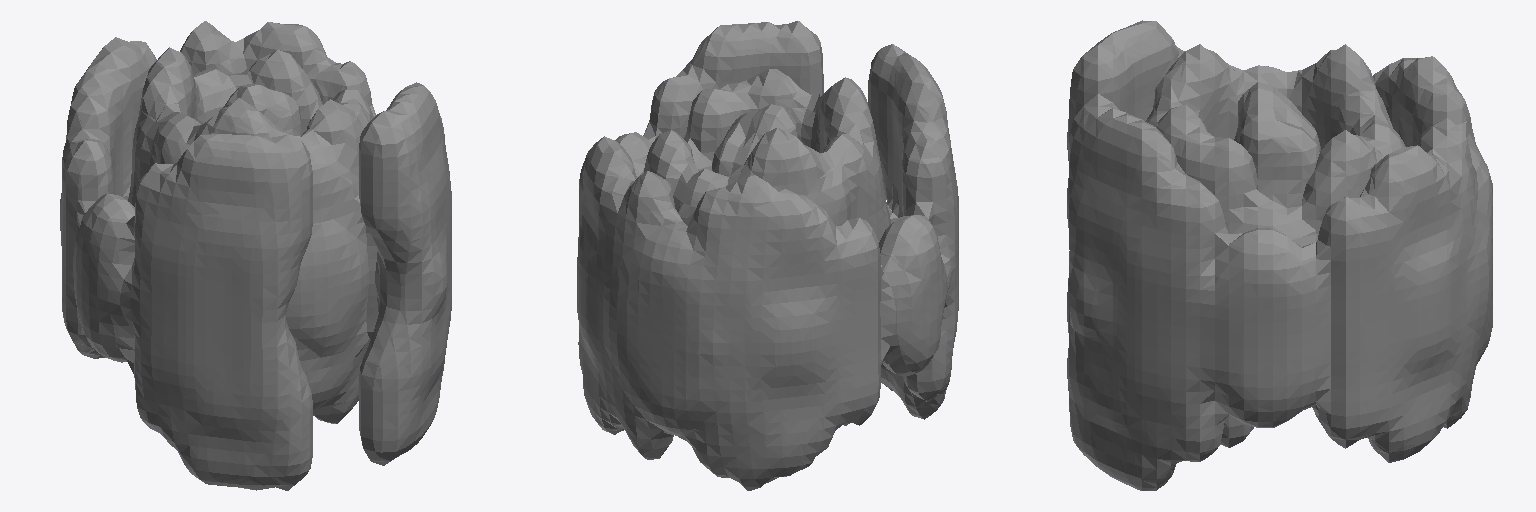
The robot description file, URDF, robot "cube.urdf":
<?xml version="0.0" ?> 
<robot name="cube.urdf"> 
<link name="legobrick"> 
<contact> 
<lateral_friction value="5.0"/> 
<rolling_friction value="0.0"/> 
<contact_cfm value="0.0"/> 
<contact_erp value="1.0"/> 
</contact> 
<inertial> 
<origin rpy="0 0 0" xyz="0.0 0.0 0.0"/> 
<mass value=".01"/> 
<inertia ixx="1" ixy="0" ixz="0" iyy="1" iyz="0" izz="1"/> 
</inertial> 
<visual> 
<origin rpy="1.570796 0 0" xyz="-0.025558558276206077 0.028425324066135942 -0.026757930072599054"/> 
<geometry> 
<mesh filename="E16_3.obj" scale="0.0006984712658935544 0.0006984712658935544 0.0006984712658935544"/> 
</geometry> 
<material name="yellow"> 
<color rgba="0.6 0.6 0.6 1"/> 
</material> 
</visual> 
<collision> 
<origin rpy="1.570796 0 0" xyz="-0.025558558276206077 0.028425324066135942 -0.026757930072599054"/> 
<geometry> 
<mesh filename="E16_3.obj" scale="0.0006984712658935544 0.0006984712658935544 0.0006984712658935544"/> 
</geometry> 
</collision> 
</link> 
</robot>

--- What the picture shows (computed from the rendered views, not written in the file) ---
The picture shows the robot from 3 angles, left to right: view 1: azimuth 30°, elevation 25°; view 2: azimuth 150°, elevation 25°; view 3: azimuth 270°, elevation 25°; orthographic projection.
Model cube.urdf with 1 links and 0 joints (none), rooted at legobrick, posed all joints at 0.
Visible links, largest first — view 1: legobrick; view 2: legobrick; view 3: legobrick.
Link boxes in pixels (<box>): legobrick: <box>60,21,451,490</box>; legobrick: <box>577,21,958,490</box>; legobrick: <box>1067,20,1492,490</box>.
Bounding box of the posed robot: 0.0559 × 0.0579 × 0.056 m (x, y, z).
1 mesh visuals loaded from 1 distinct referenced files (1 OBJ).
